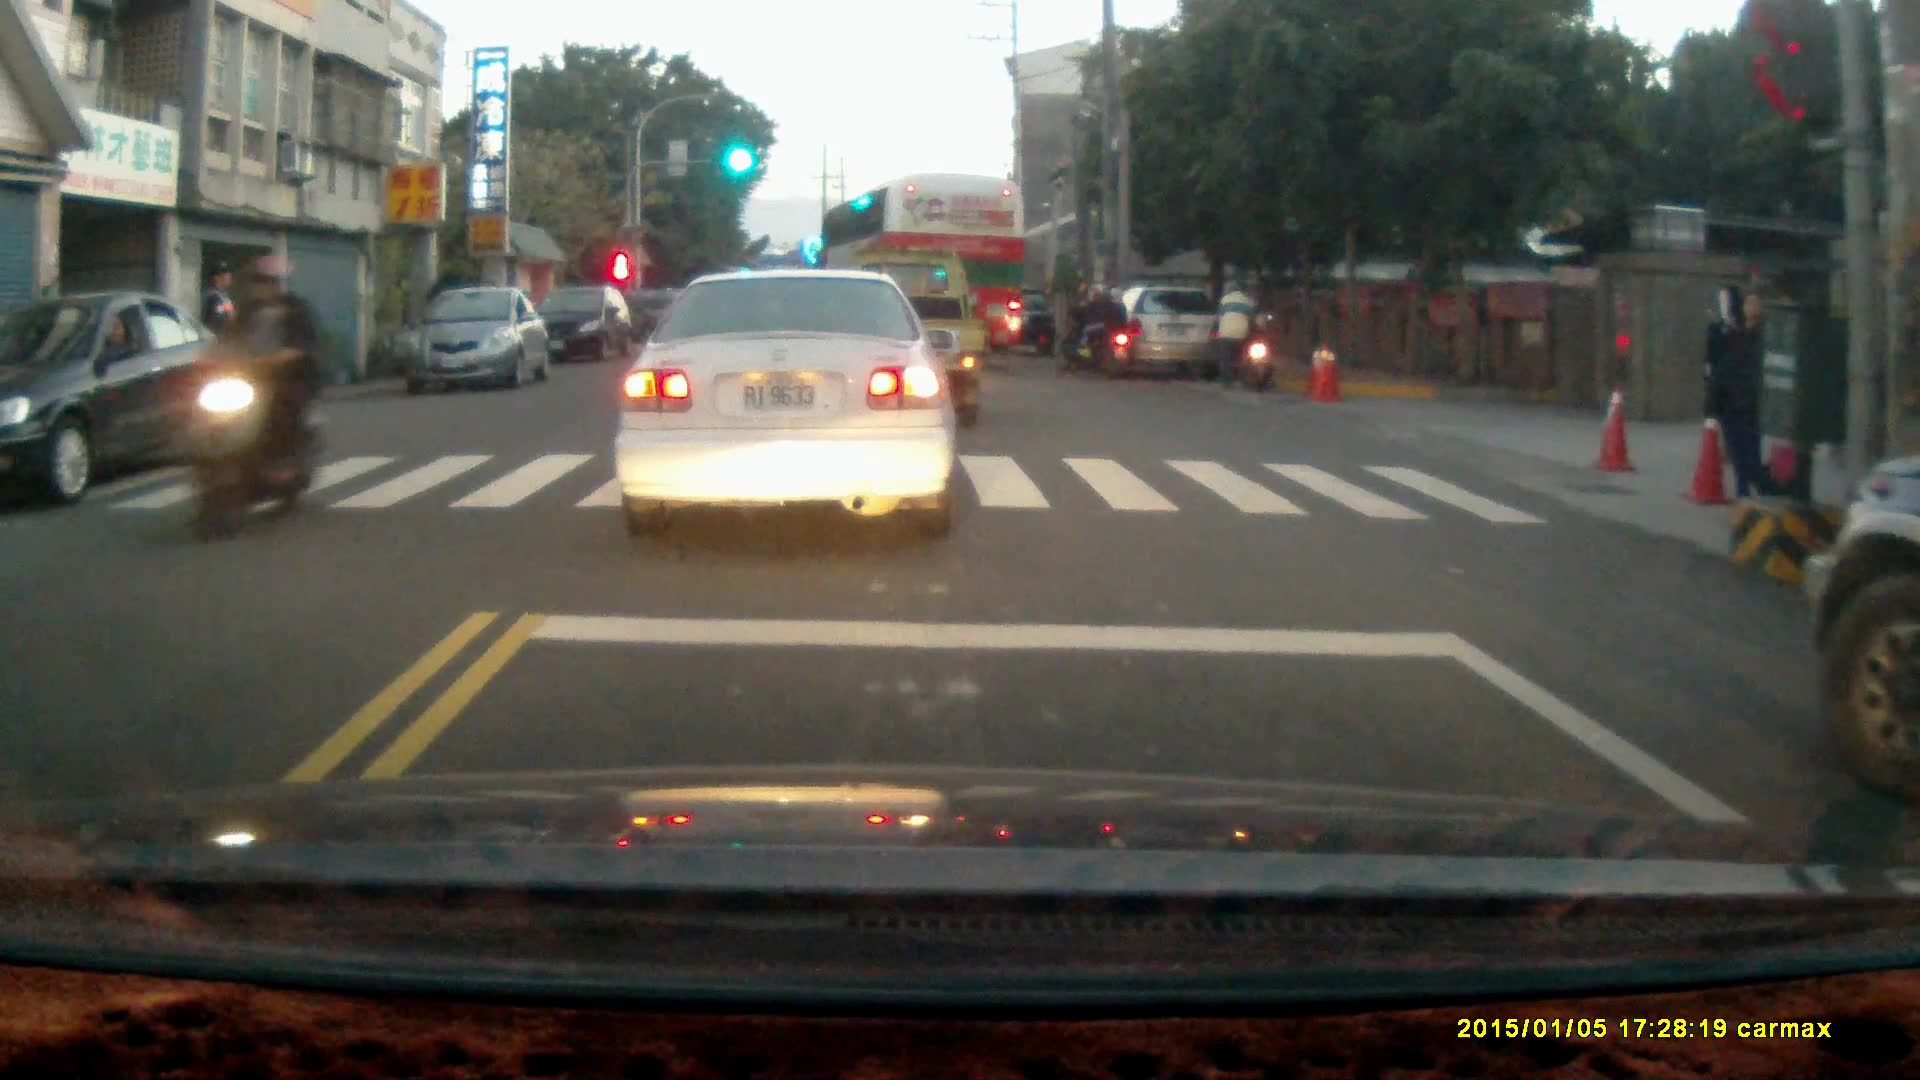pedestrian: (1715, 288, 1783, 511), (199, 263, 253, 446), (1700, 279, 1752, 458), (1217, 273, 1259, 386)
rider: (176, 251, 319, 547), (1059, 280, 1125, 383)
vehicle: (610, 266, 959, 544), (2, 294, 245, 508), (816, 172, 1031, 377), (1797, 459, 1920, 806), (394, 288, 549, 401), (1101, 286, 1224, 384), (531, 285, 634, 367)
